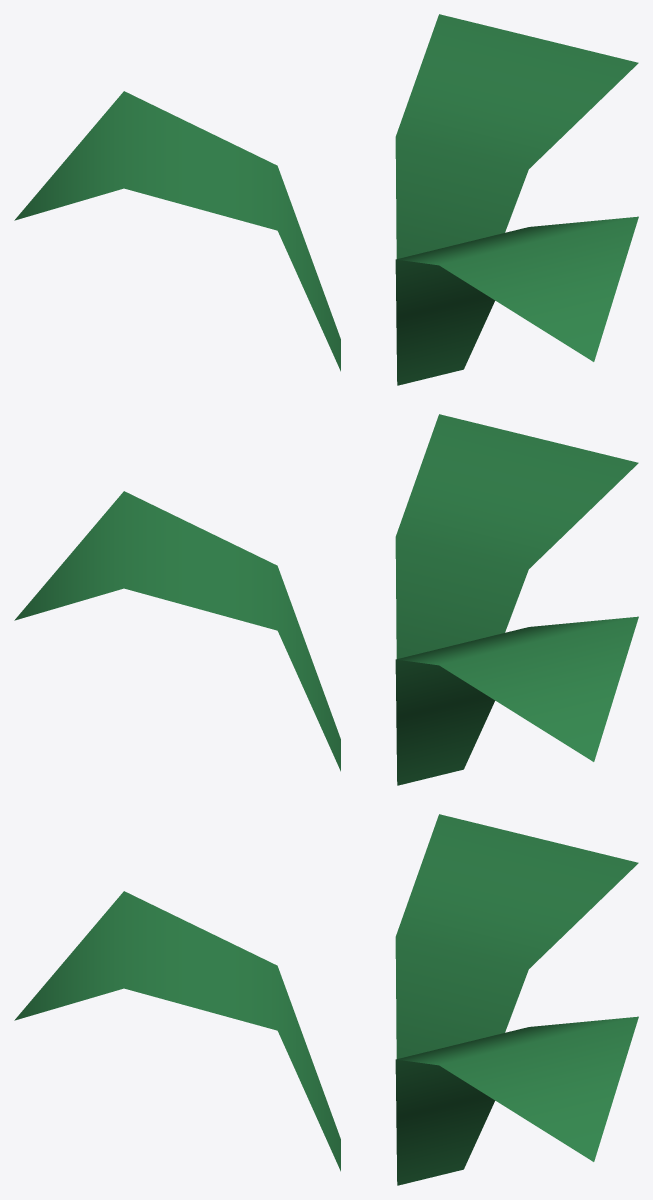
Rendered from foliage-large.glb.
The picture shows the model from 3 angles, top to bottom: view 1: azimuth 30°, elevation 25°; view 2: azimuth 150°, elevation 25°; view 3: azimuth 270°, elevation 25°; orthographic projection.
Parts seen in each view (by area): view 1: plant_large; view 2: plant_large; view 3: plant_large.
Part boxes in pixels (x1=…): plant_large: x1=14, y1=14, x2=638, y2=385; plant_large: x1=14, y1=414, x2=638, y2=785; plant_large: x1=14, y1=814, x2=638, y2=1185.
Bounding box in the file's own units: 0.3735 × 0.133 × 0.3485.
